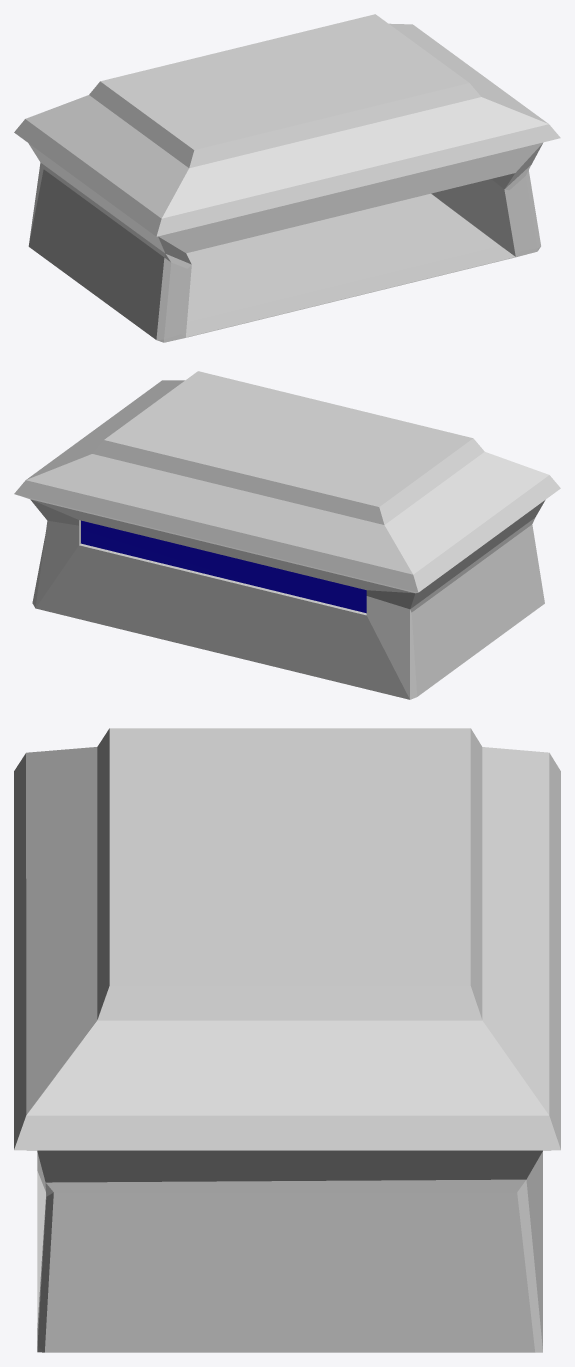
Rendered from Hangar.fbx.
3 views of the same model, one above another, from view 1: azimuth 30°, elevation 25°; view 2: azimuth 150°, elevation 25°; view 3: azimuth 270°, elevation 25° (orthographic). The views are drawn at different scales.
Parts seen in each view (by area): view 1: Cube; view 2: Cube; view 3: Cube.
Part boxes in pixels (bbox=[...]): Cube: bbox=[14, 14, 560, 342]; Cube: bbox=[14, 371, 560, 699]; Cube: bbox=[14, 728, 560, 1352].
Size of the model in its own units: 39.27 by 15.51 by 23.97.
